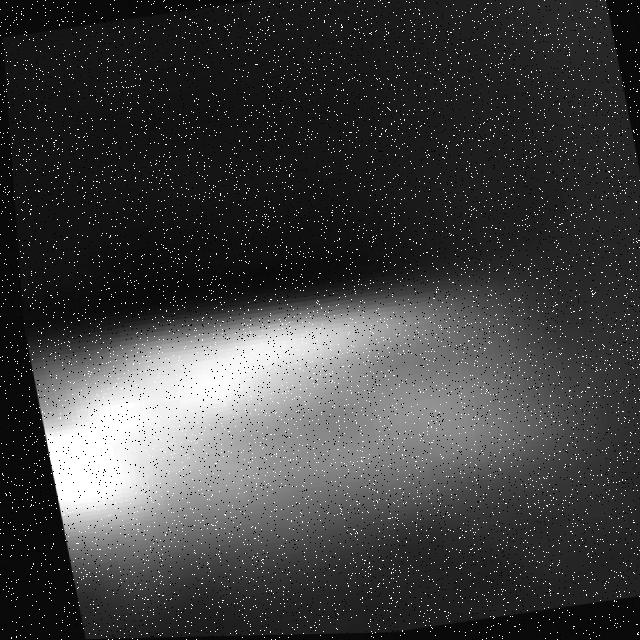person: (16, 245, 628, 603)
